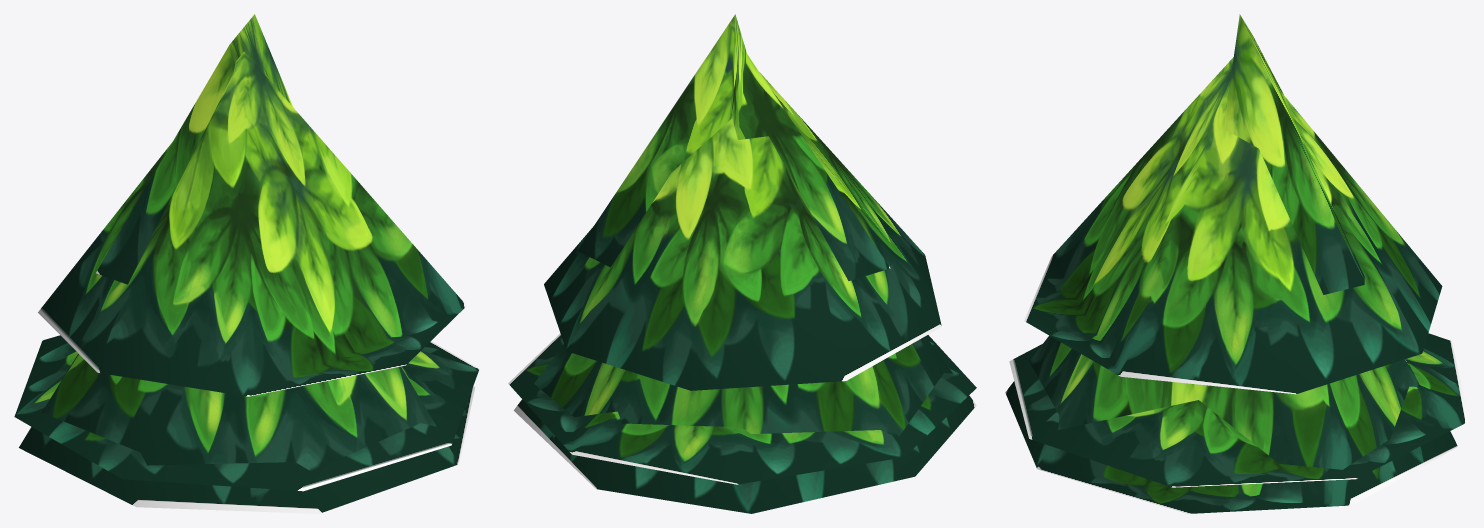
The model's file is SM_ENV_TREE_village_LOD2.glb.
The picture shows the model from 3 angles, left to right: view 1: azimuth 30°, elevation 25°; view 2: azimuth 150°, elevation 25°; view 3: azimuth 270°, elevation 25°; orthographic projection. The views are drawn at different scales.
Parts seen in each view (by area): view 1: SM_ENV_TREE_village_LOD2_EXPORT; view 2: SM_ENV_TREE_village_LOD2_EXPORT; view 3: SM_ENV_TREE_village_LOD2_EXPORT.
Boxes of the visible parts, x1,y1,x2,y2 form: SM_ENV_TREE_village_LOD2_EXPORT: (14,14,479,513); SM_ENV_TREE_village_LOD2_EXPORT: (508,14,976,513); SM_ENV_TREE_village_LOD2_EXPORT: (1005,14,1469,513).
Size of the model in its own units: 4.71 by 5.24 by 4.66.
2 materials, 2 textured.
